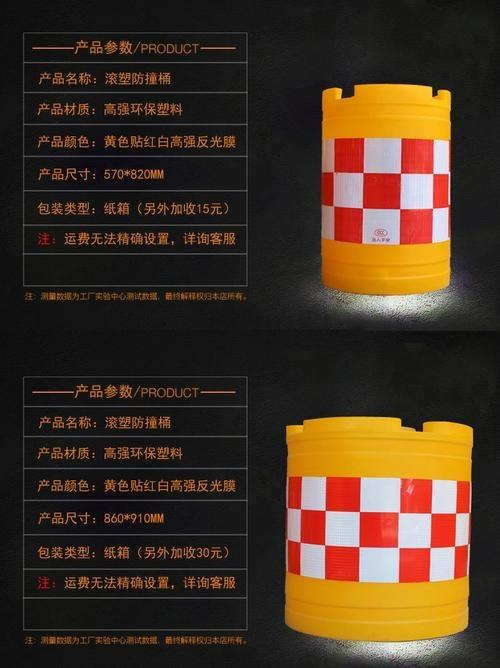cone_barrel: (271, 404, 471, 653), (320, 77, 450, 296)
